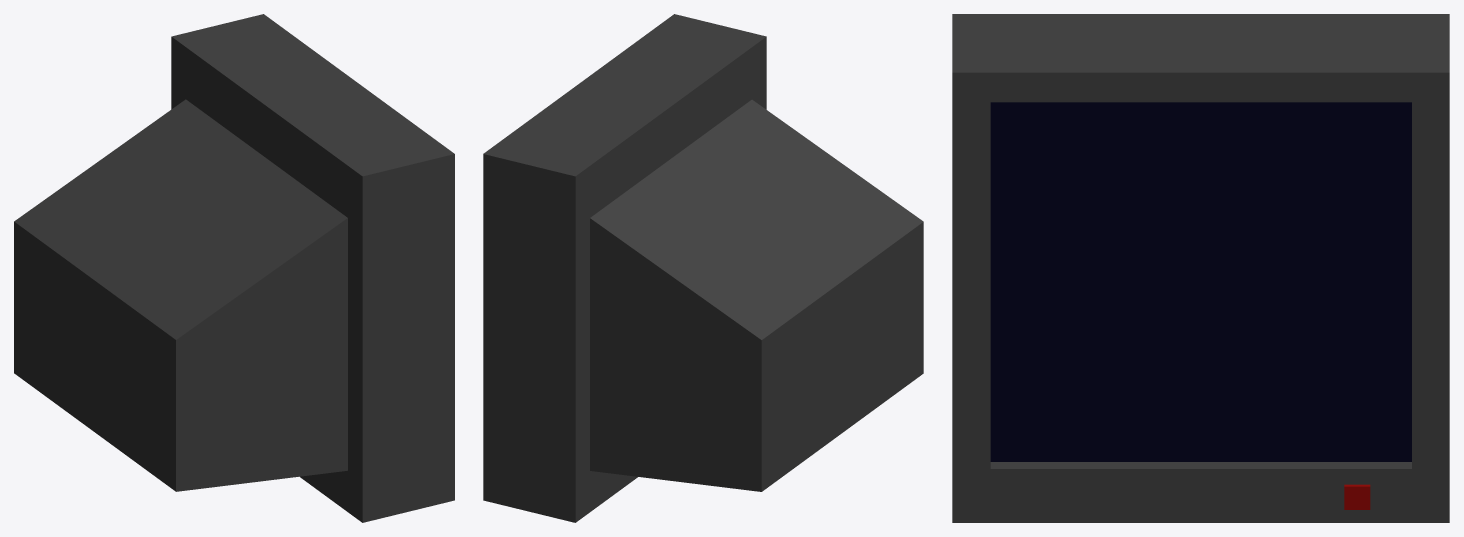
Rendered from Monitor.fbx.
The picture shows the model from 3 angles, left to right: view 1: azimuth 30°, elevation 25°; view 2: azimuth 150°, elevation 25°; view 3: azimuth 270°, elevation 25°; orthographic projection. The views are drawn at different scales.
Visible parts, largest first — view 1: Monitor; view 2: Monitor; view 3: Monitor.
Part boxes in pixels (x1,y1,x2,y2): Monitor: [14, 14, 454, 522]; Monitor: [483, 14, 923, 522]; Monitor: [952, 14, 1449, 522].
Bounding box in the file's own units: 619 × 768 × 768.
